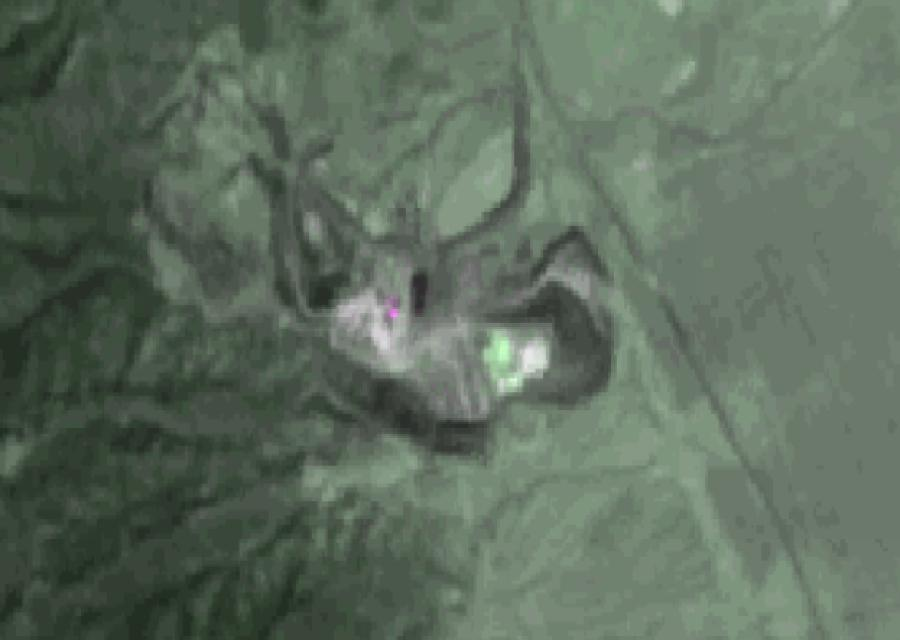Potential Lime Manufacturing Facility: (389, 306, 399, 318)
